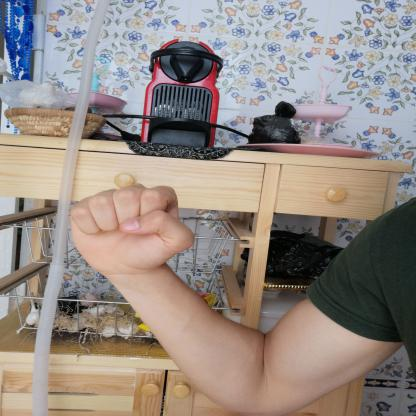SAD: (49, 171, 208, 288)
